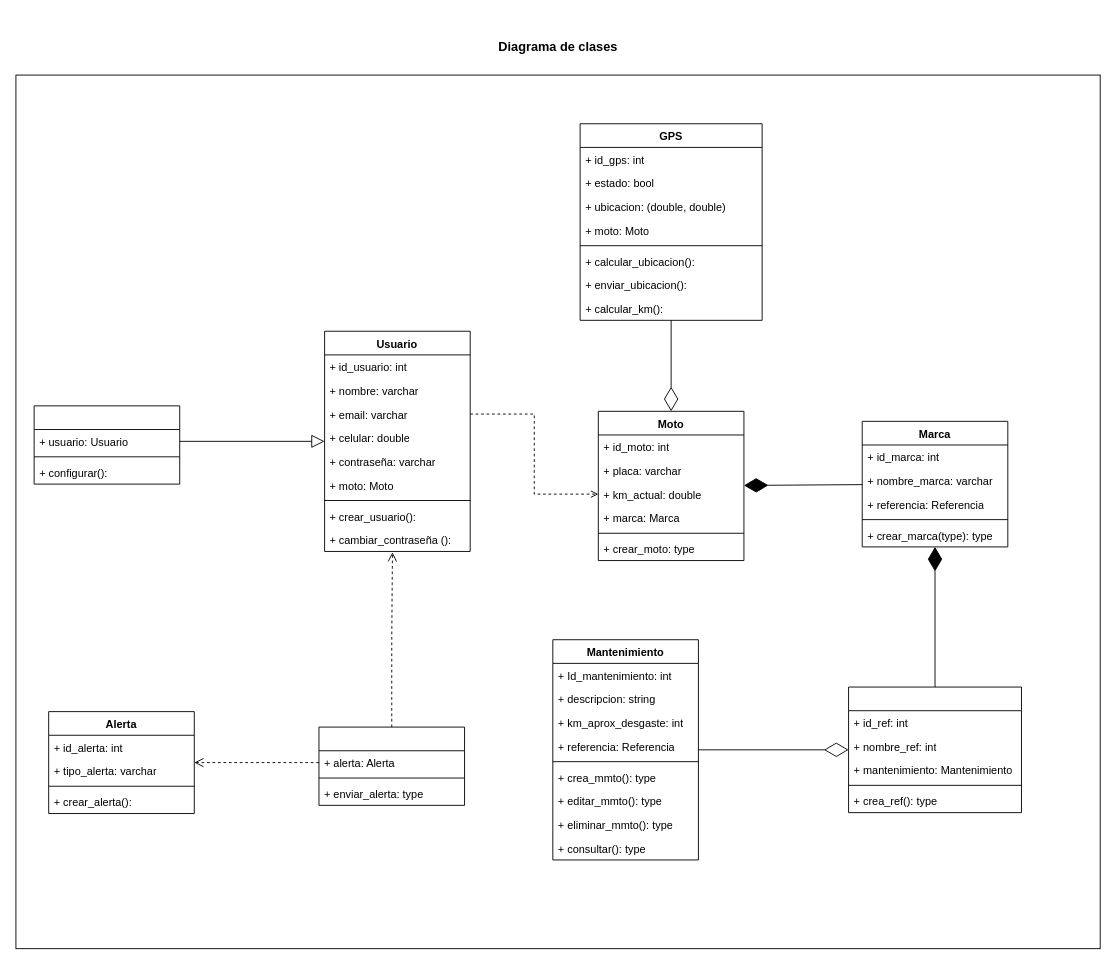
This 1117x965 diagram has some shape labels left out. Each missing label, with the box of its shape:
Administrador: (33, 405, 180, 484)
App - Sistema Central: (318, 726, 465, 805)
Referencia: (848, 686, 1021, 813)
